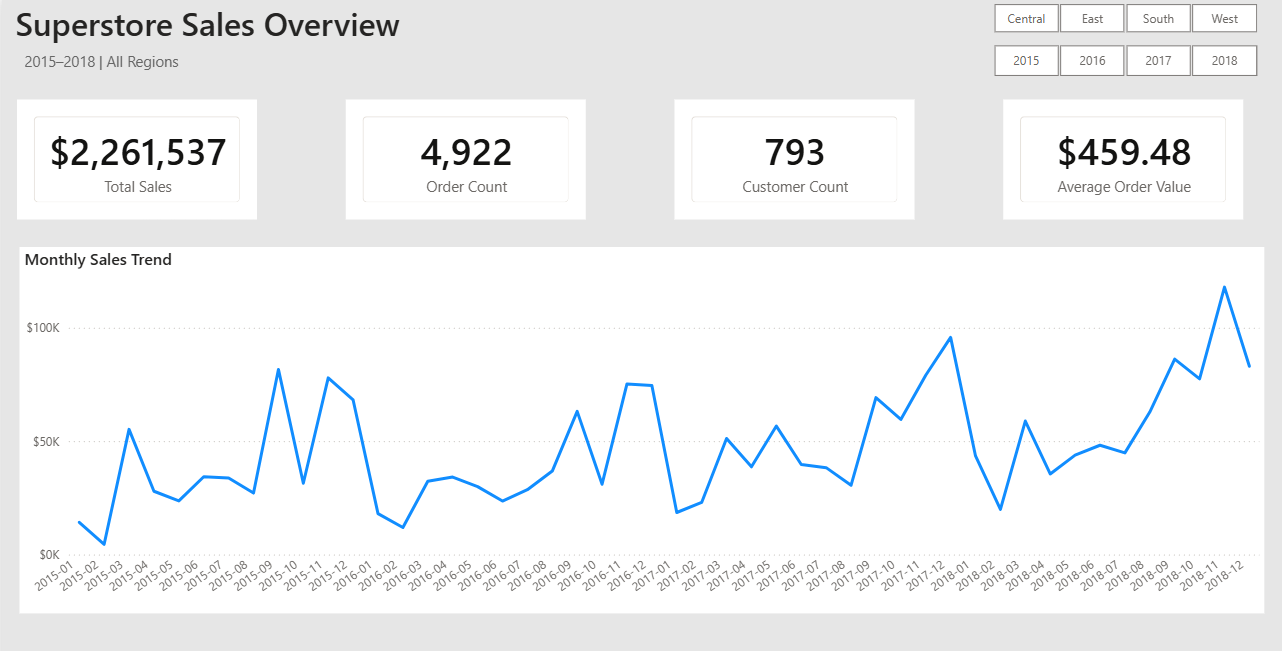

What the dashboard file says about the page in this screenshot:
{"tool":"powerbi","page":{"name":"Overview","canvas":[1280,720],"ordinal":0},"visuals":[{"type":"textbox","box":[0,0,411.2,66.2],"z":0},{"type":"textbox","box":[17.5,48.8,168.8,37.5],"z":1000},{"type":"cardVisual","fields":{"Data":["_Measures.Total Sales"]},"box":[14.5,102,240,120],"z":2000},{"type":"cardVisual","fields":{"Data":["_Measures.Order Count"]},"box":[343.4,102,240,120],"z":3000},{"type":"cardVisual","fields":{"Data":["_Measures.Customer Count"]},"box":[672.4,102,240,120],"z":4000},{"type":"cardVisual","fields":{"Data":["_Measures.Average Order Value"]},"box":[1001.3,102,240,120],"z":5000},{"type":"lineChart","title":"Monthly Sales Trend","fields":{"Y":["_Measures.Total Sales"],"Category":["dim_date.Year-Month"]},"box":[16.9,250,1245,366.8],"z":6000},{"type":"slicer","fields":{"Values":["dim_date.Year"]},"box":[966.4,41,312.5,44.6],"z":7000},{"type":"slicer","fields":{"Values":["orders.region"]},"box":[966.4,0,312.5,42.2],"z":8000}]}

Visuals, with their boxes on the page's 1280x720 design canvas (x1, y1, x2, y2). These are canvas units, not pixel positions in the 1282x651 screenshot, which may show the page scaled, cropped or inside an application window:
textbox: 0, 0, 411, 66
textbox: 18, 49, 186, 86
cardVisual - _Measures.Total Sales: 14, 102, 254, 222
cardVisual - _Measures.Order Count: 343, 102, 583, 222
cardVisual - _Measures.Customer Count: 672, 102, 912, 222
cardVisual - _Measures.Average Order Value: 1001, 102, 1241, 222
"Monthly Sales Trend" lineChart: 17, 250, 1262, 617
slicer - dim_date.Year: 966, 41, 1279, 86
slicer - orders.region: 966, 0, 1279, 42
